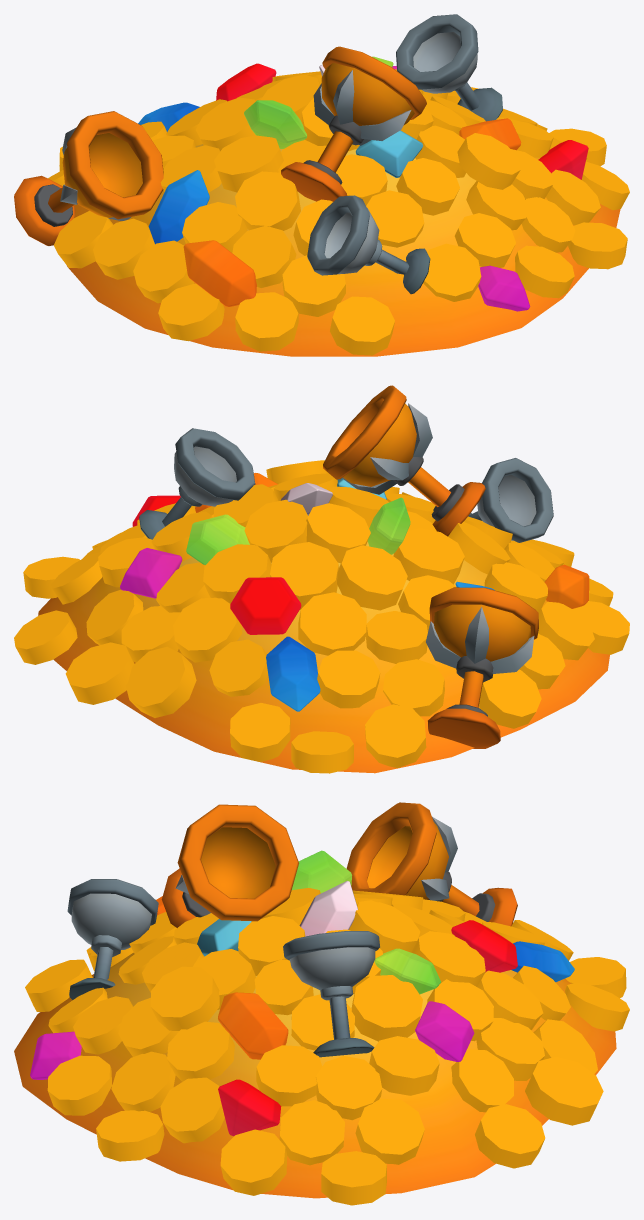
Rendered from GoldPileBig_001.glb.
The picture shows the model from 3 angles, top to bottom: view 1: azimuth 30°, elevation 25°; view 2: azimuth 150°, elevation 25°; view 3: azimuth 270°, elevation 25°; orthographic projection. The views are drawn at different scales.
Visible parts, largest first — view 1: GoldPileBig_001; view 2: GoldPileBig_001; view 3: GoldPileBig_001.
Part boxes in pixels (left/top/right/bottom): GoldPileBig_001: left=14, top=14, right=629, bottom=356; GoldPileBig_001: left=14, top=385, right=629, bottom=773; GoldPileBig_001: left=14, top=802, right=629, bottom=1205.
Bounding box in the file's own units: 2.87 × 1.19 × 2.67.
Materials: 2 (2 with a texture image).
